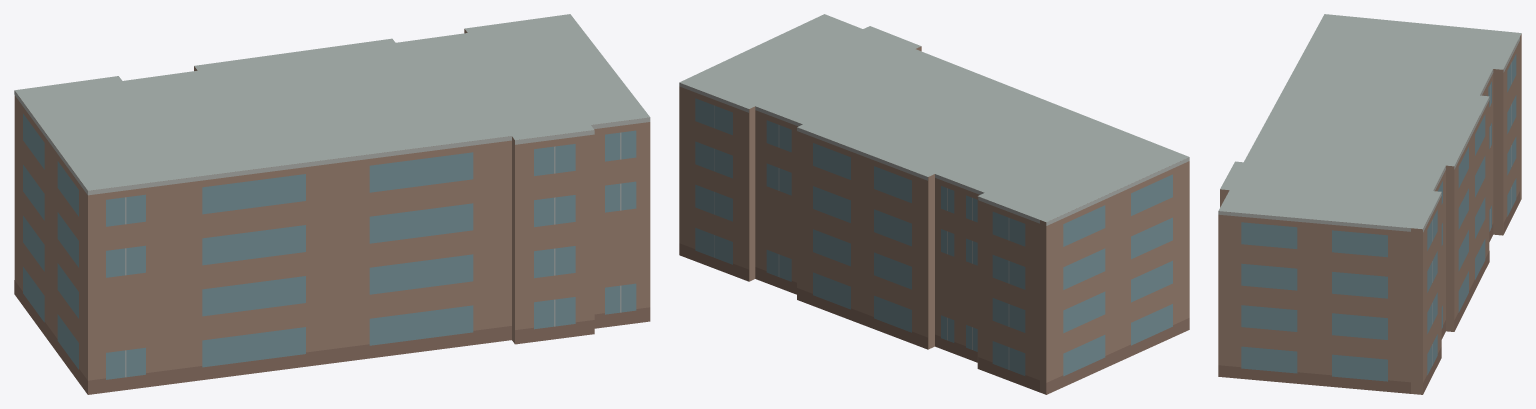
Rendered from survey-upis-32474321.glb.
3 renders of one model, left to right at view 1: azimuth 30°, elevation 25°; view 2: azimuth 150°, elevation 25°; view 3: azimuth 270°, elevation 25°, orthographic. The views are drawn at different scales.
Visible parts, largest first — view 1: survey-upis-32474321.tmp; view 2: survey-upis-32474321.tmp; view 3: survey-upis-32474321.tmp.
Part boxes in pixels (bbox=[...]): survey-upis-32474321.tmp: bbox=[14, 14, 650, 394]; survey-upis-32474321.tmp: bbox=[679, 14, 1189, 394]; survey-upis-32474321.tmp: bbox=[1218, 14, 1521, 394].
Size of the model in its own units: 30.64 by 11 by 18.26.
